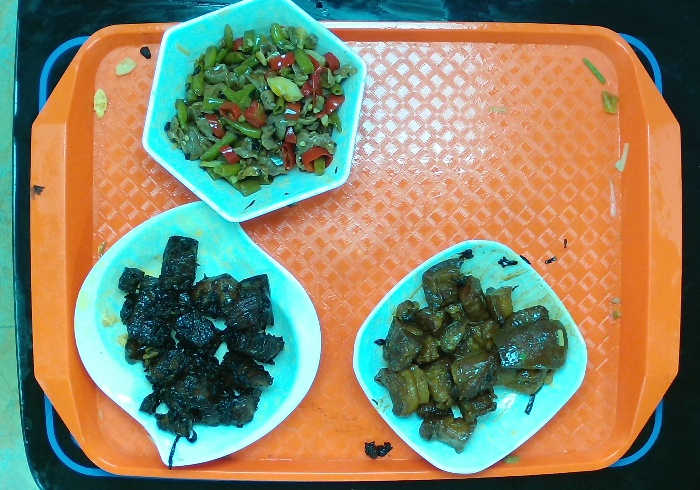RJxy-Liu_Jiao_Wan: (138, 1, 370, 226)
RJxy-Shuang_Jiao_Pan: (70, 197, 326, 470)
RJxy-Si_Fang_Wan: (348, 236, 590, 477)
